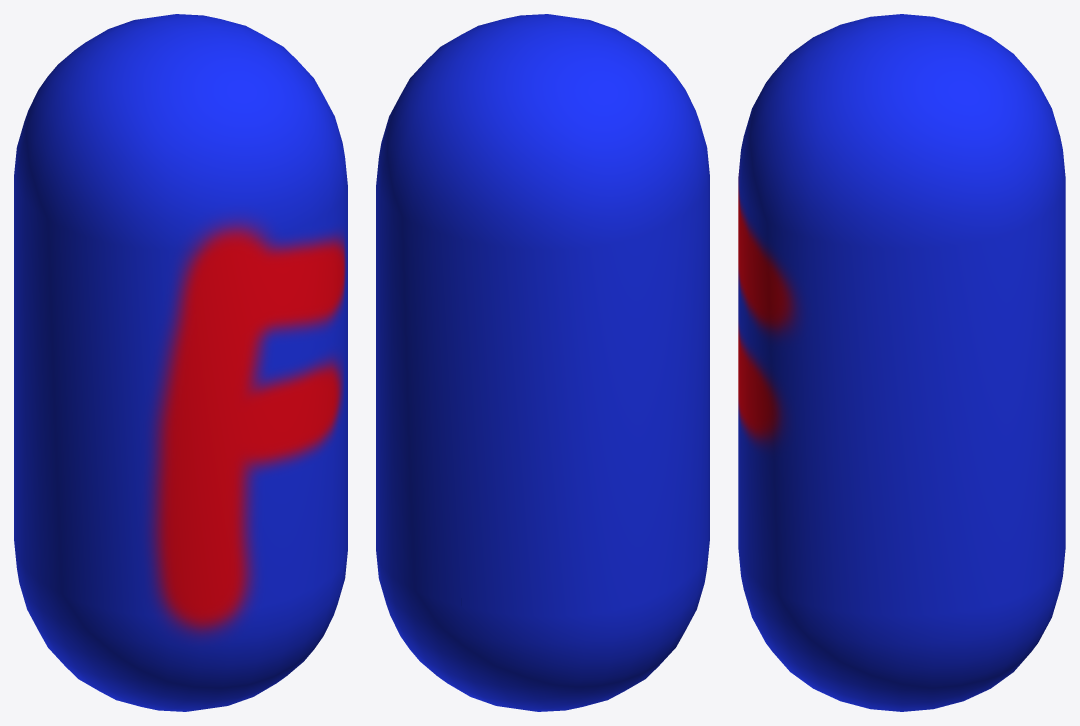
The picture shows the model from 3 angles, left to right: view 1: azimuth 30°, elevation 25°; view 2: azimuth 150°, elevation 25°; view 3: azimuth 270°, elevation 25°; orthographic projection.
Parts seen in each view (by area): view 1: player_test; view 2: player_test; view 3: player_test.
Part boxes in pixels (x1,y1,x2,y2): player_test: (14,14,347,711); player_test: (376,14,709,711); player_test: (738,14,1065,711).
Bounding box in the file's own units: 0.8685 × 1.94 × 0.8685.
1 material, 1 textured.
